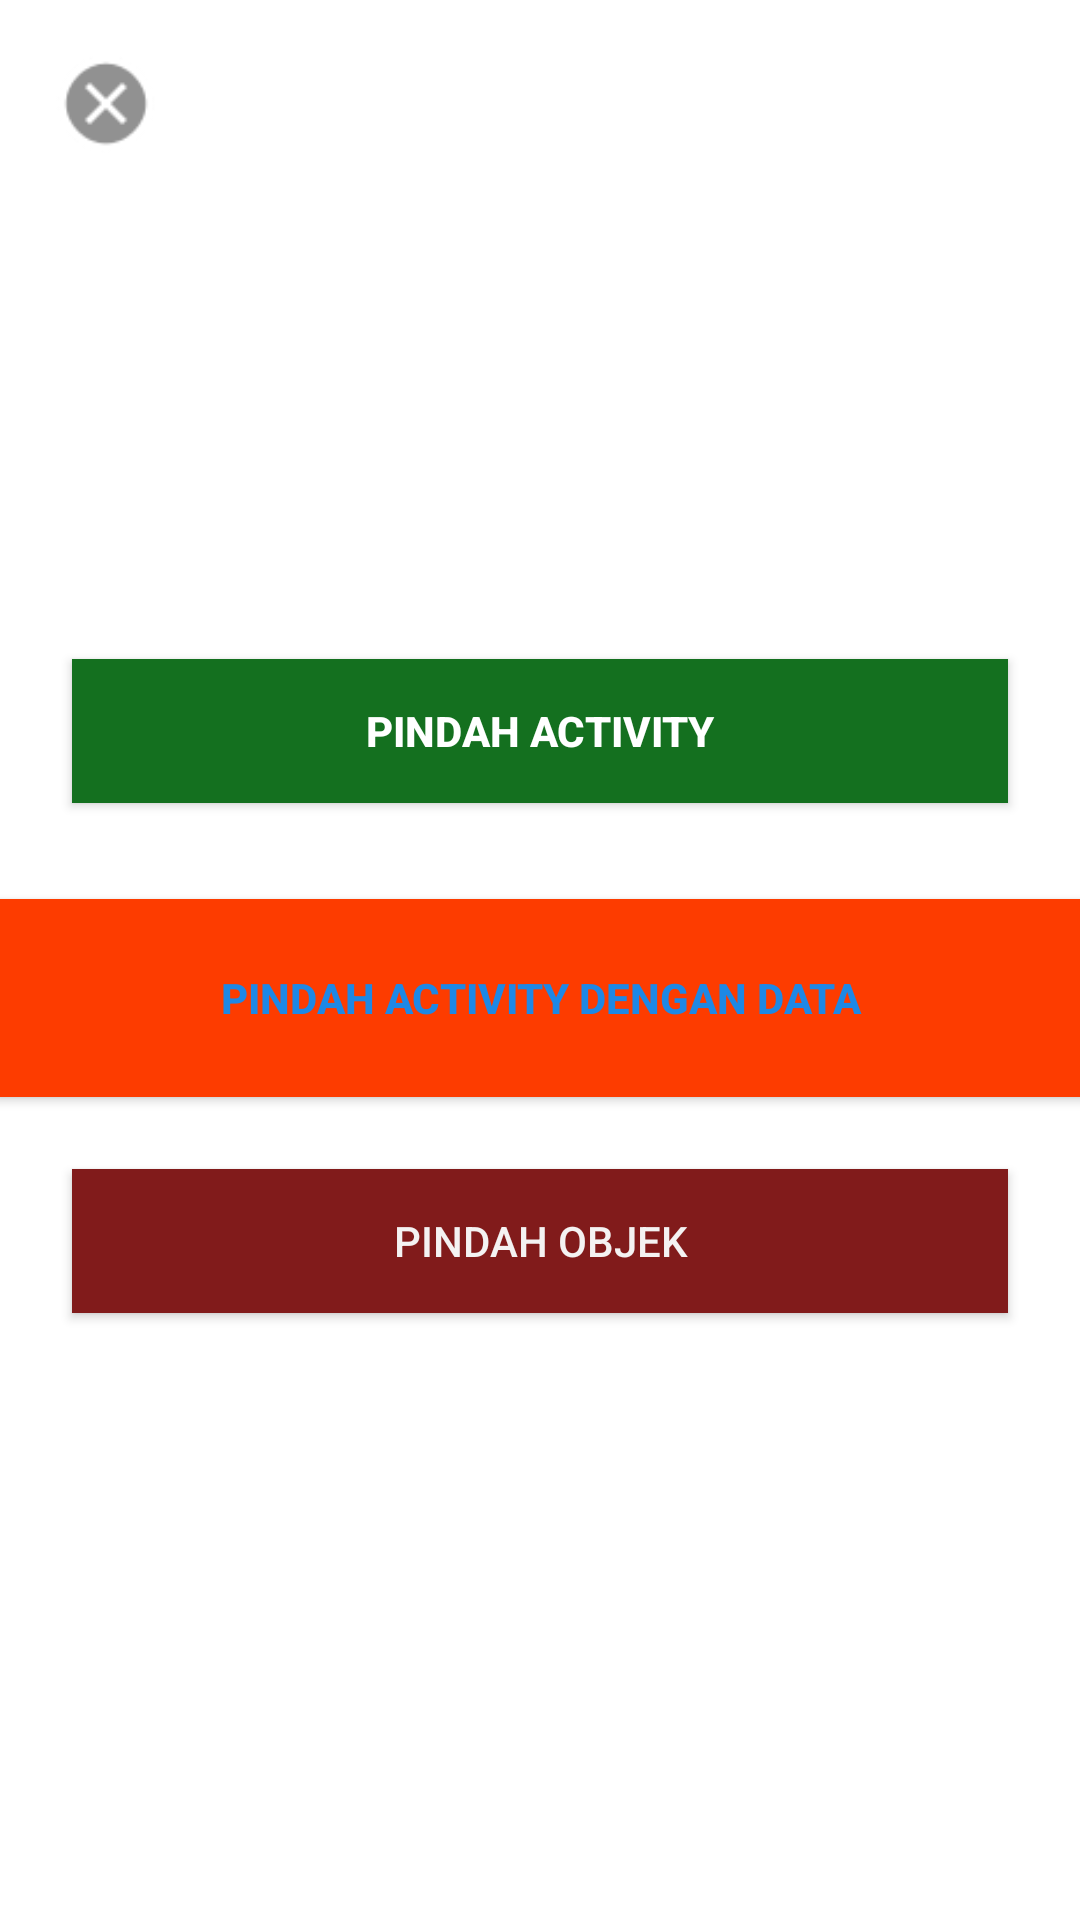

Where icons sit on this 1080px x 1920px app screen, as (x1, y1, x2, y2):
presence offline: (65, 63, 147, 144)
